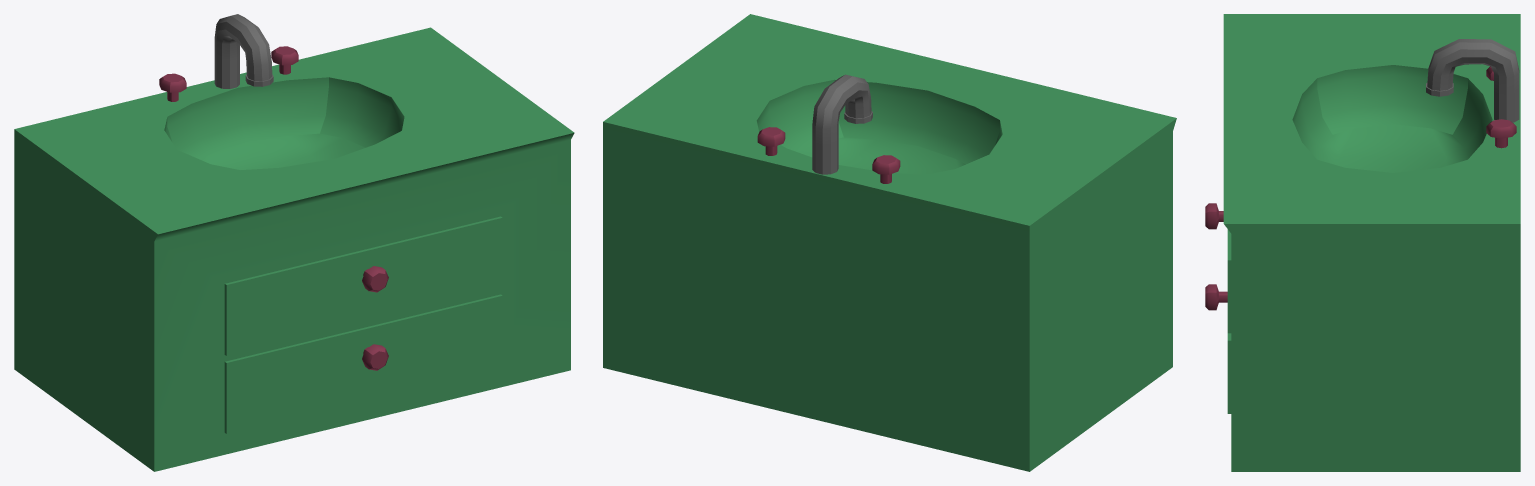
Rendered from Sink.fbx.
The picture shows the model from 3 angles, left to right: view 1: azimuth 30°, elevation 25°; view 2: azimuth 150°, elevation 25°; view 3: azimuth 270°, elevation 25°; orthographic projection. The views are drawn at different scales.
Visible parts, largest first — view 1: sink:Sink, sink:Drawer1, sink:Drawer, sink:Pipe; view 2: sink:Sink, sink:Pipe, sink:Knob3; view 3: sink:Sink, sink:Pipe, sink:Knob3, sink:Drawer1, sink:Knob2, sink:Drawer, sink:Knob1.
Boxes of the visible parts, x1,y1,x2,y2 form: sink:Sink: (14,27,574,471); sink:Drawer1: (224,216,502,355); sink:Drawer: (224,294,502,433); sink:Pipe: (214,14,273,88); sink:Sink: (603,14,1176,471); sink:Pipe: (812,74,872,174); sink:Knob3: (757,127,785,155); sink:Sink: (1223,14,1520,471); sink:Pipe: (1426,39,1519,122); sink:Knob3: (1486,119,1516,148); sink:Drawer1: (1227,229,1231,333); sink:Knob2: (1205,284,1227,310); sink:Drawer: (1227,333,1231,413); sink:Knob1: (1205,203,1223,229).
Bounding box in the file's own units: 6.06 × 4.38 × 3.85.
5 materials, 5 textured.
